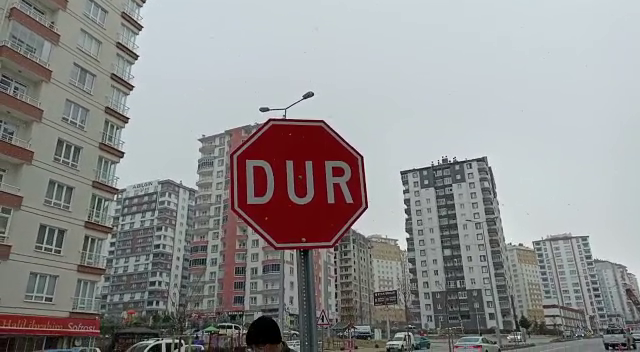stop: (229, 117, 372, 252)
